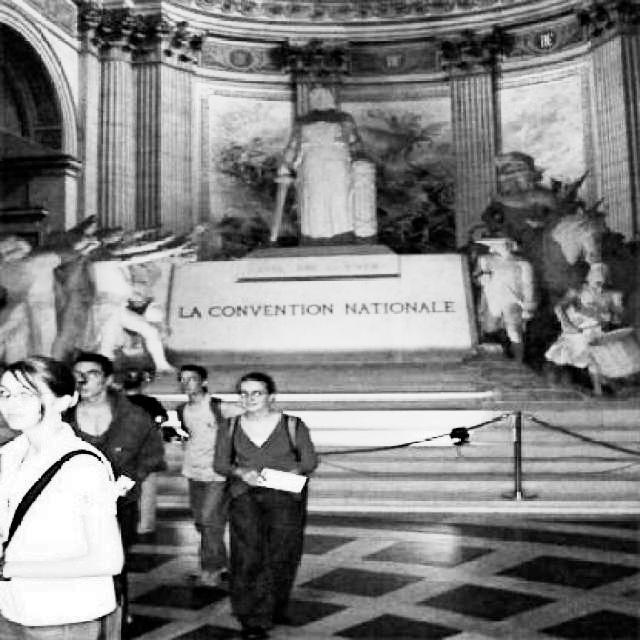Person: (0, 349, 132, 640), (206, 369, 323, 640), (165, 362, 244, 596), (72, 351, 166, 496)
